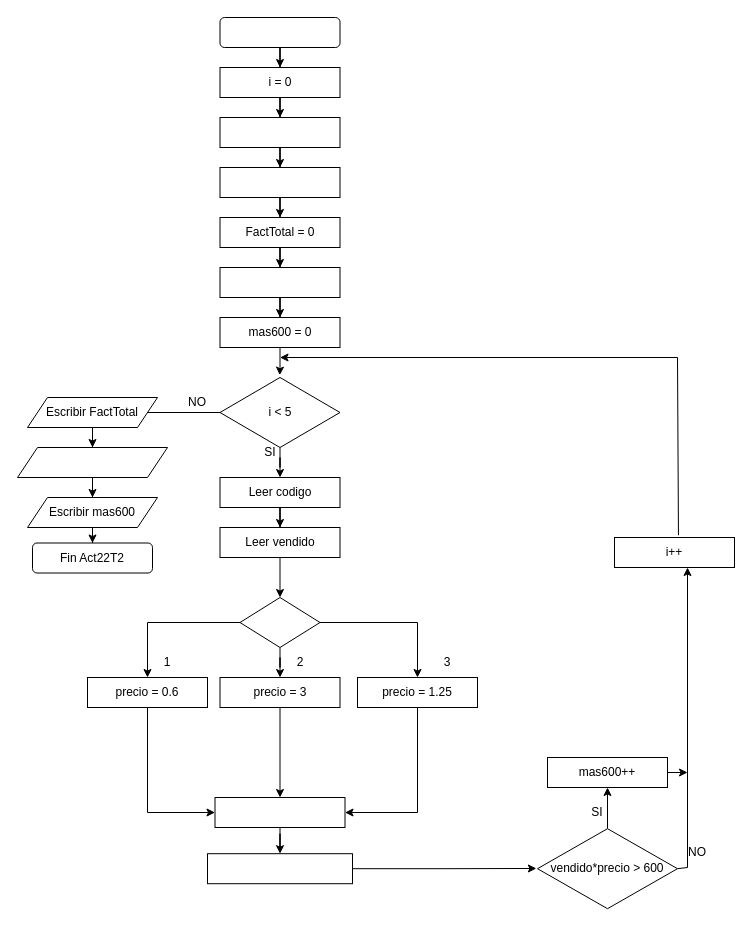
Image size: 752x927. Some labels were removed from this diagram. The box of each missing label's shape, as (x1, y1, x2, y2) in pixels:
codigo: (239, 596, 320, 648)
Escribir vendidoTotal: (16, 446, 168, 478)
FactTotal+=vendido*precio: (206, 853, 352, 884)
Inicio Act22T2: (219, 16, 340, 48)
precio = 0: (219, 266, 340, 298)
vendido = 0: (219, 116, 340, 148)
vendidoTotal = 0: (219, 166, 340, 198)
vendidoTotal+=vendido: (214, 796, 345, 828)
